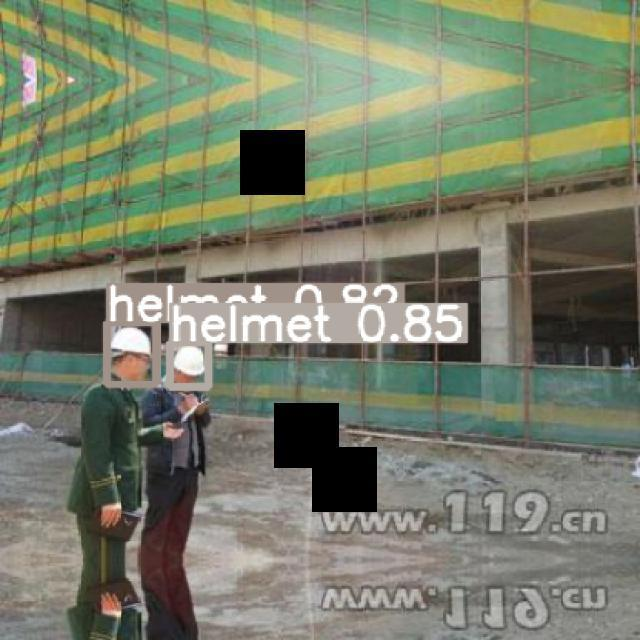helmet: (110, 326, 151, 356), (173, 345, 205, 376)
